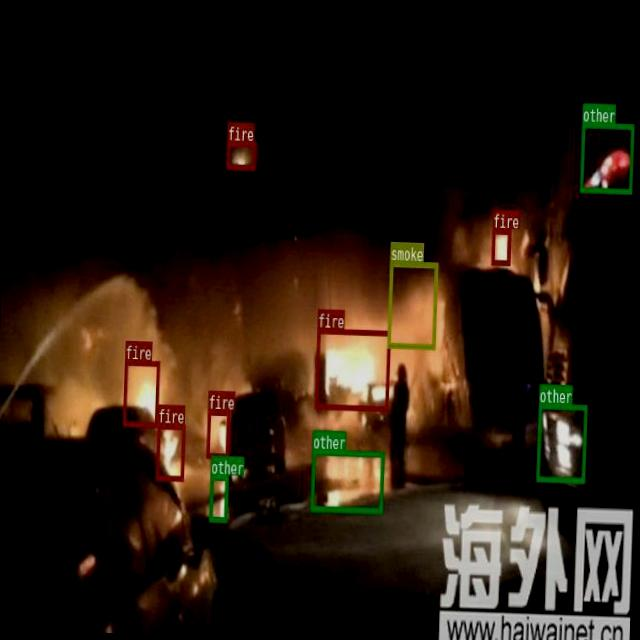fire: (314, 328, 390, 410), (122, 359, 159, 426), (154, 422, 184, 480), (205, 409, 229, 458), (224, 140, 254, 168), (490, 226, 510, 264)
smoke: (386, 259, 437, 348)
